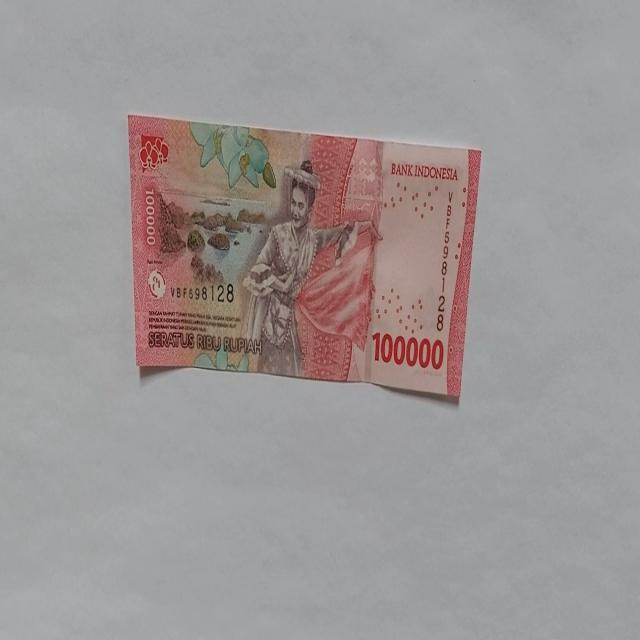seratus ribu rupiah: (128, 114, 482, 403), (240, 159, 360, 378)
